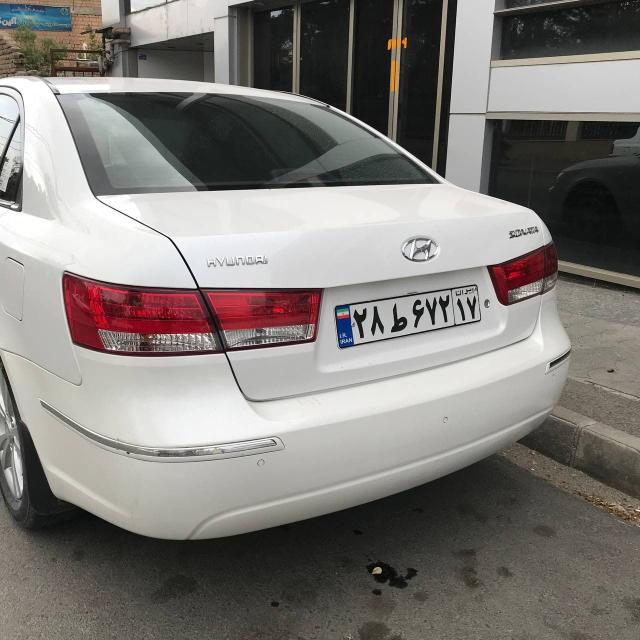Plates: (330, 278, 484, 349)
